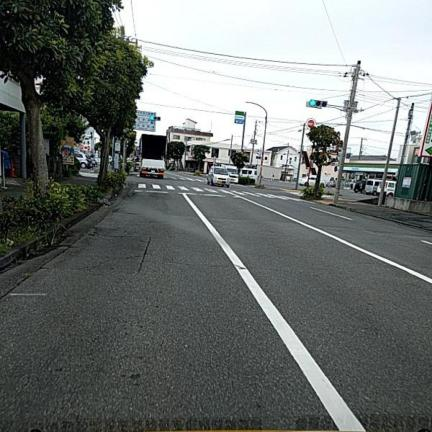Road: (0, 173, 431, 430)
